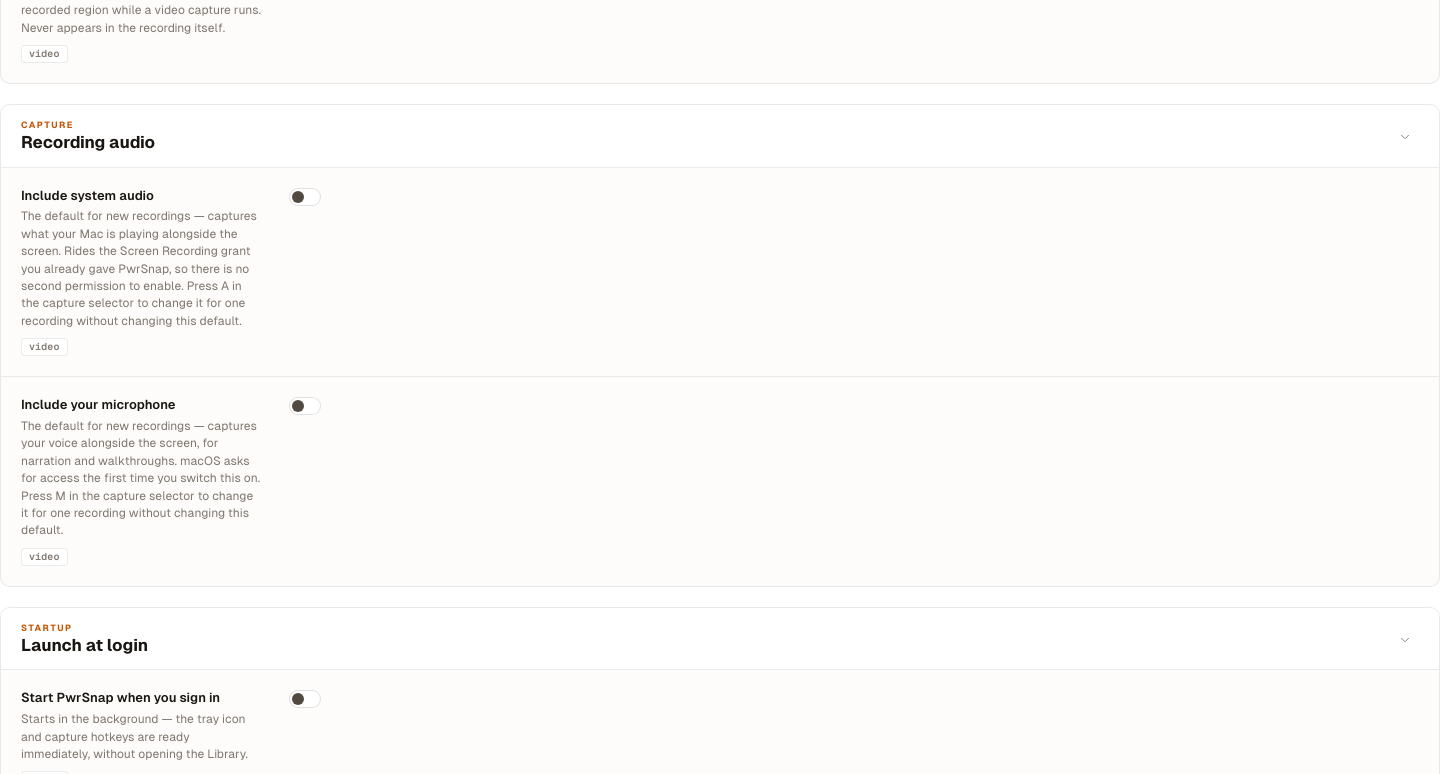
Test: GeneralPage — recording audio › a denied microphone still persists and offers an optional shortcut
(page scrolled)
Step 1. Click the switch next to "Include your microphone" → (305, 406), box [289,397,321,415]
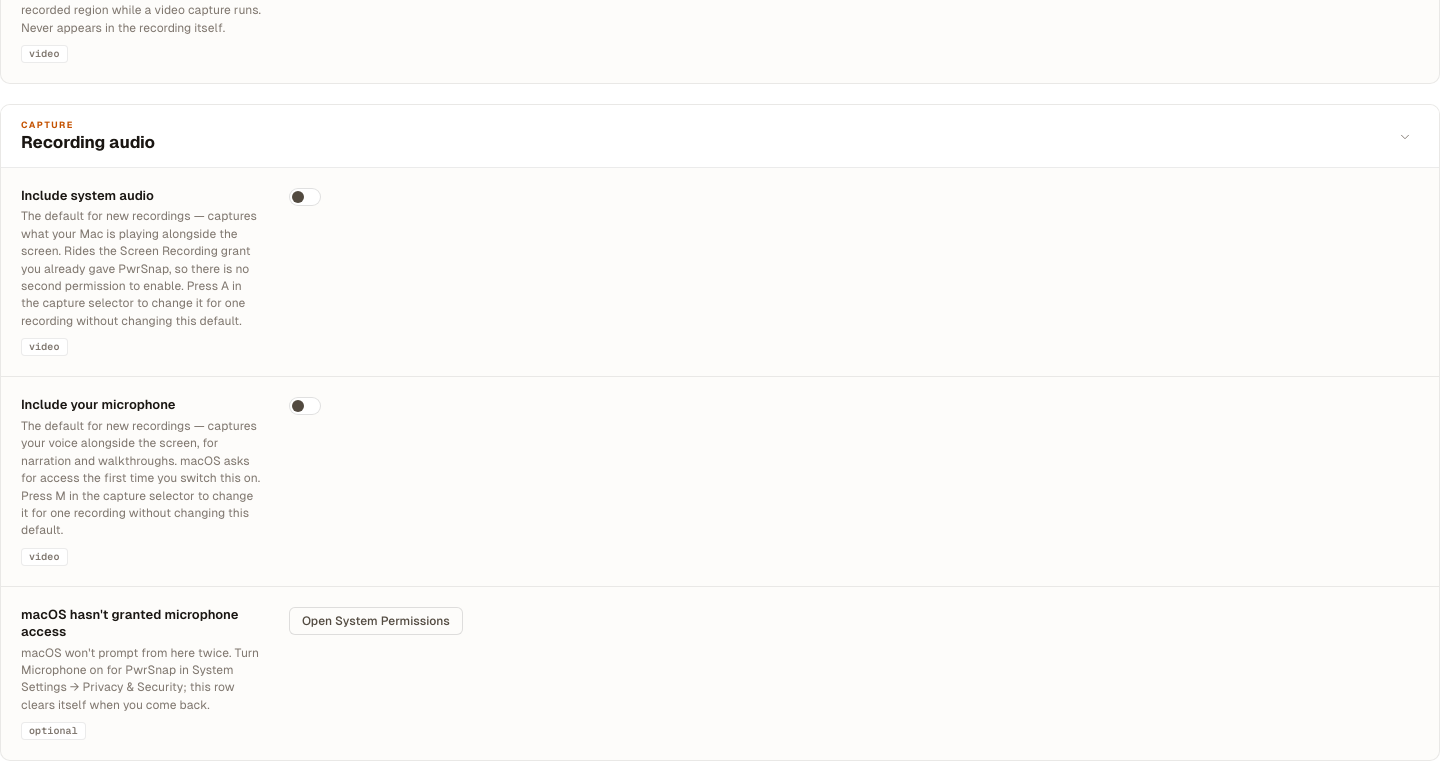
Result: the text "macOS hasn't granted microphone access" is shown at [21,607,261,641]
